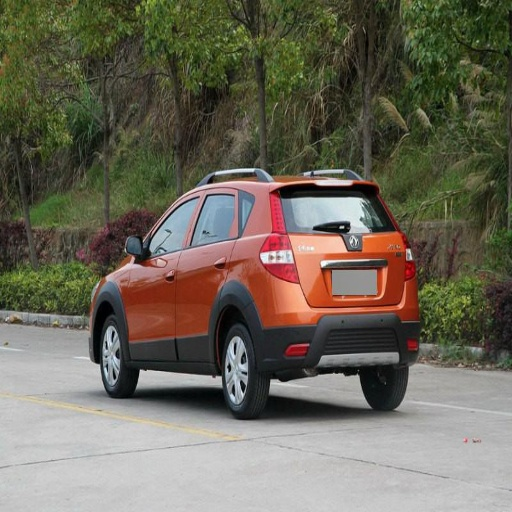back_bumper: (258, 277, 416, 369)
back_glass: (277, 185, 390, 230)
back_left_door: (176, 188, 240, 360)
tailgate: (288, 219, 391, 302)
trunk: (297, 230, 405, 307), (293, 233, 359, 288)
